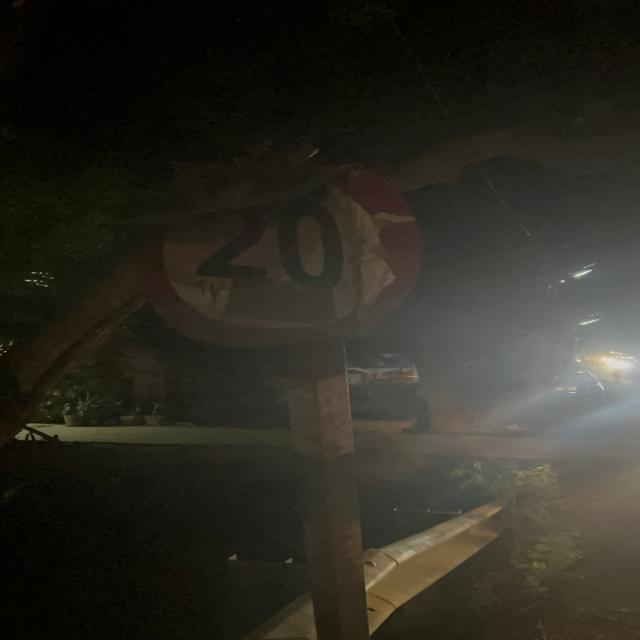speedlimit_20: (144, 160, 409, 346)
